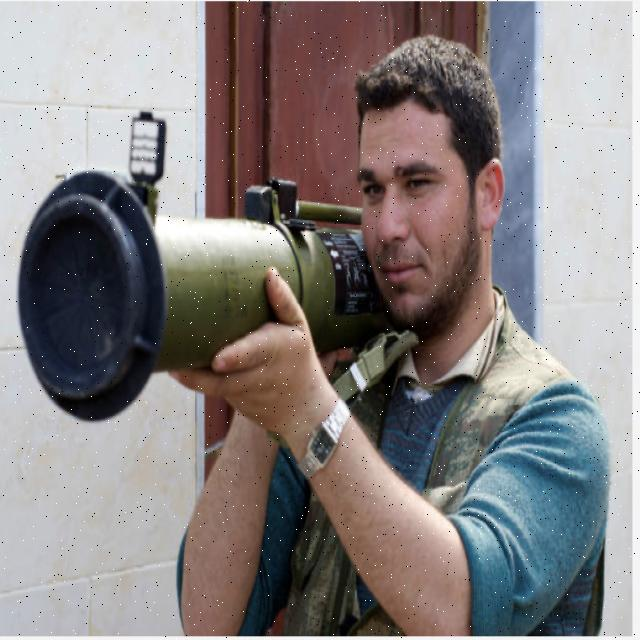bazooka: (15, 167, 387, 431)
